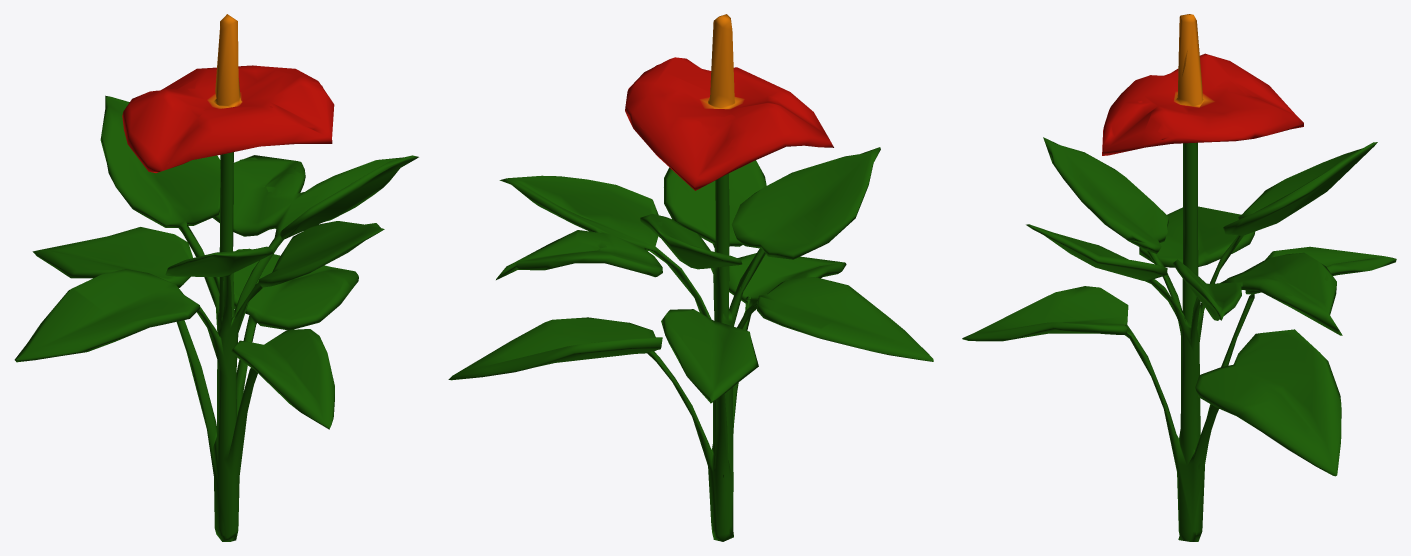
The model's file is gen3d-anthurium-lod0.glb.
3 views of the same model, side by side, from view 1: azimuth 30°, elevation 25°; view 2: azimuth 150°, elevation 25°; view 3: azimuth 270°, elevation 25° (orthographic).
Parts seen in each view (by area): view 1: part_0; view 2: part_0; view 3: part_0.
Part boxes in pixels (x1=…): part_0: x1=14, y1=14, x2=418, y2=541; part_0: x1=448, y1=14, x2=933, y2=541; part_0: x1=962, y1=14, x2=1396, y2=541.
Bounding box in the file's own units: 0.8406 × 0.999 × 0.748.
